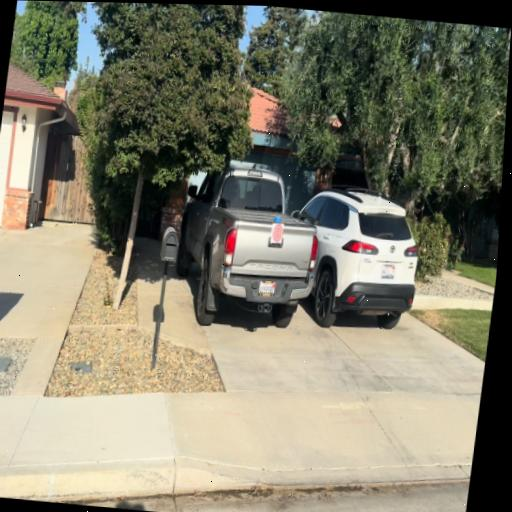bullseye: (271, 223, 284, 243)
